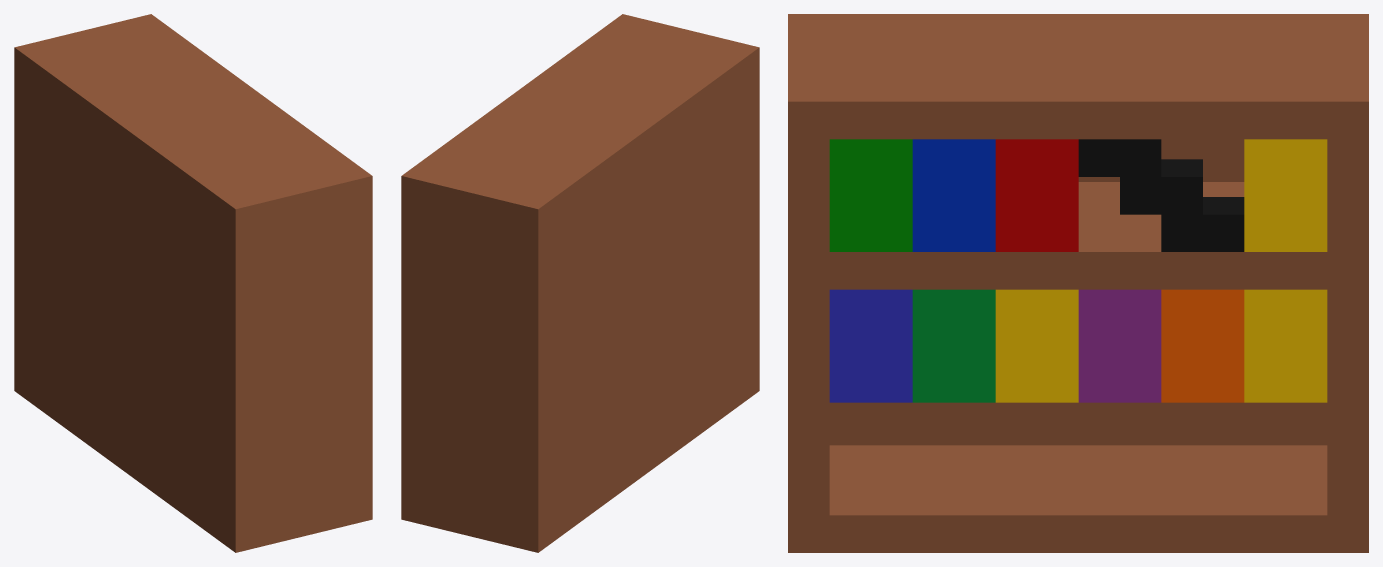
The model's file is Book.fbx.
3 renders of one model, left to right at view 1: azimuth 30°, elevation 25°; view 2: azimuth 150°, elevation 25°; view 3: azimuth 270°, elevation 25°, orthographic. The views are drawn at different scales.
Visible parts, largest first — view 1: Book; view 2: Book; view 3: Book.
Boxes of the visible parts, x1,y1,x2,y2 form: Book: [14, 14, 372, 552]; Book: [401, 14, 759, 552]; Book: [788, 14, 1368, 552].
Size of the model in its own units: 454 by 1089 by 1271.
